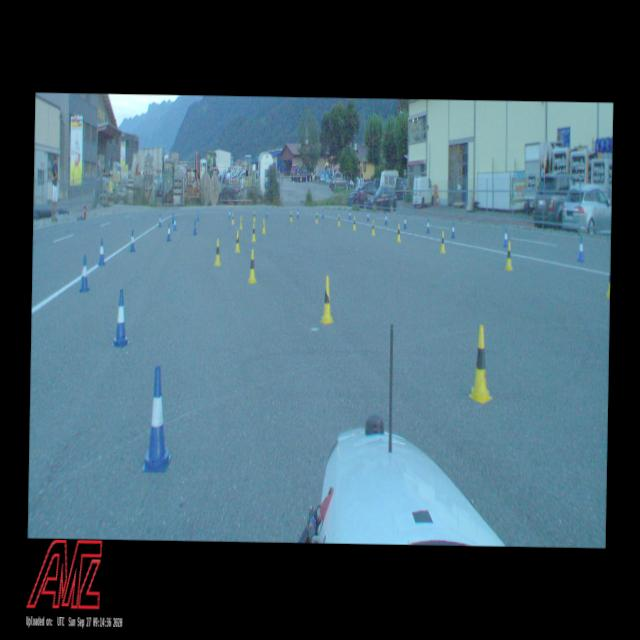blue_cone: (142, 366, 173, 472), (112, 288, 130, 346), (80, 254, 90, 292), (98, 238, 105, 265), (577, 236, 584, 261), (130, 230, 136, 252), (166, 223, 172, 241), (503, 226, 508, 246), (426, 218, 430, 234), (450, 222, 454, 238), (192, 219, 196, 235), (384, 212, 388, 224), (173, 216, 176, 229), (158, 213, 161, 226), (403, 216, 406, 228), (348, 210, 351, 219), (197, 212, 200, 220), (266, 206, 268, 218), (172, 212, 174, 223), (228, 208, 230, 218), (367, 211, 369, 221), (322, 208, 324, 218), (297, 208, 299, 217)
yellow_cone: (468, 324, 493, 403), (320, 275, 334, 323), (248, 249, 258, 283), (214, 238, 222, 265), (505, 242, 512, 270), (234, 230, 240, 252), (440, 230, 445, 252), (396, 224, 401, 242), (251, 223, 256, 241), (606, 270, 609, 296), (371, 219, 375, 235), (262, 218, 266, 233), (352, 216, 356, 230), (239, 216, 242, 228), (315, 212, 318, 222), (338, 213, 340, 226), (232, 212, 234, 224), (290, 210, 292, 221), (253, 211, 255, 222)
